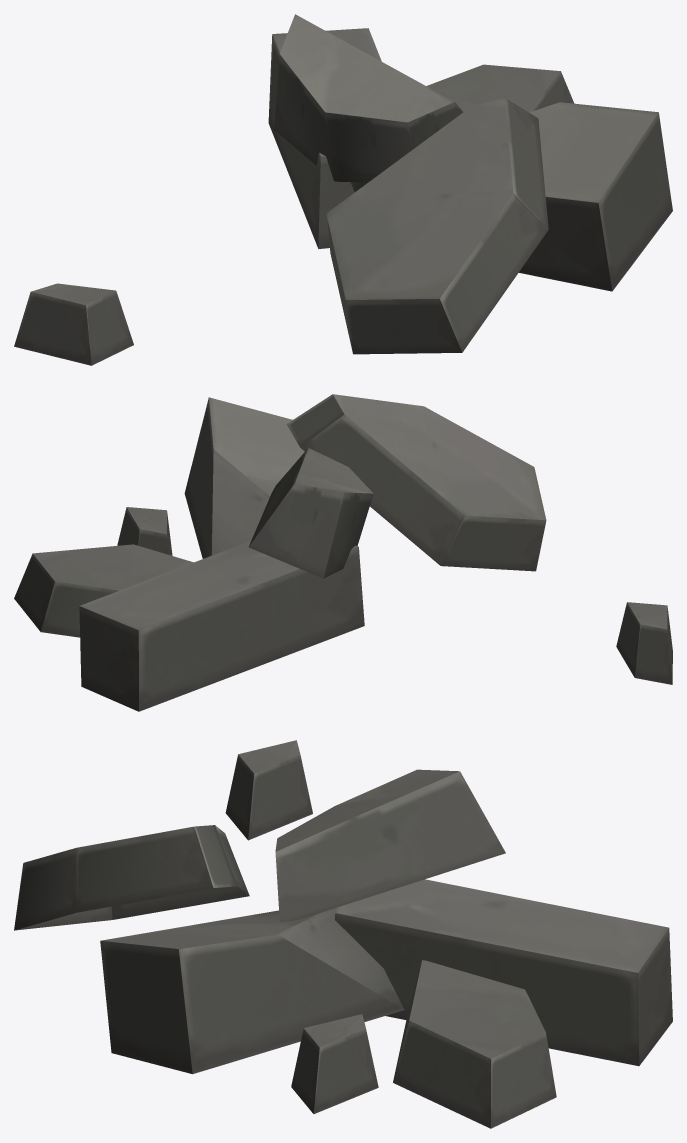
File: sc_dungeon_moshenta_zhuantou_001.FBX
The picture shows the model from 3 angles, top to bottom: view 1: azimuth 30°, elevation 25°; view 2: azimuth 150°, elevation 25°; view 3: azimuth 270°, elevation 25°; orthographic projection. The views are drawn at different scales.
Visible parts, largest first — view 1: sc_dungeon_moshenta_zhuantou_001; view 2: sc_dungeon_moshenta_zhuantou_001; view 3: sc_dungeon_moshenta_zhuantou_001.
Part boxes in pixels (box(x1,y1,x2,y2)): sc_dungeon_moshenta_zhuantou_001: box(14, 14, 672, 365); sc_dungeon_moshenta_zhuantou_001: box(14, 394, 672, 711); sc_dungeon_moshenta_zhuantou_001: box(14, 740, 672, 1128).
Size of the model in its own units: 2.39 by 1.98 by 0.7136.
1 material, 1 textured.
